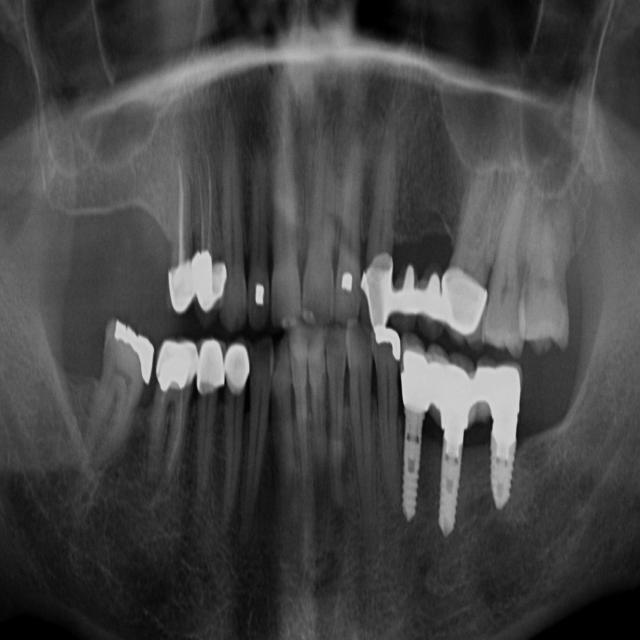dolgu: (105, 320, 154, 381), (376, 328, 404, 362), (329, 270, 354, 300), (252, 276, 263, 312)
implant: (426, 347, 473, 546), (472, 362, 531, 517), (392, 339, 432, 549)
kanal-tedavisi: (182, 153, 222, 264), (156, 156, 190, 269)
kaplama: (358, 253, 390, 320), (442, 272, 481, 326), (159, 342, 199, 388), (192, 252, 222, 312), (166, 262, 194, 306), (199, 339, 222, 388), (223, 342, 244, 379)
kopru: (395, 245, 445, 328)
